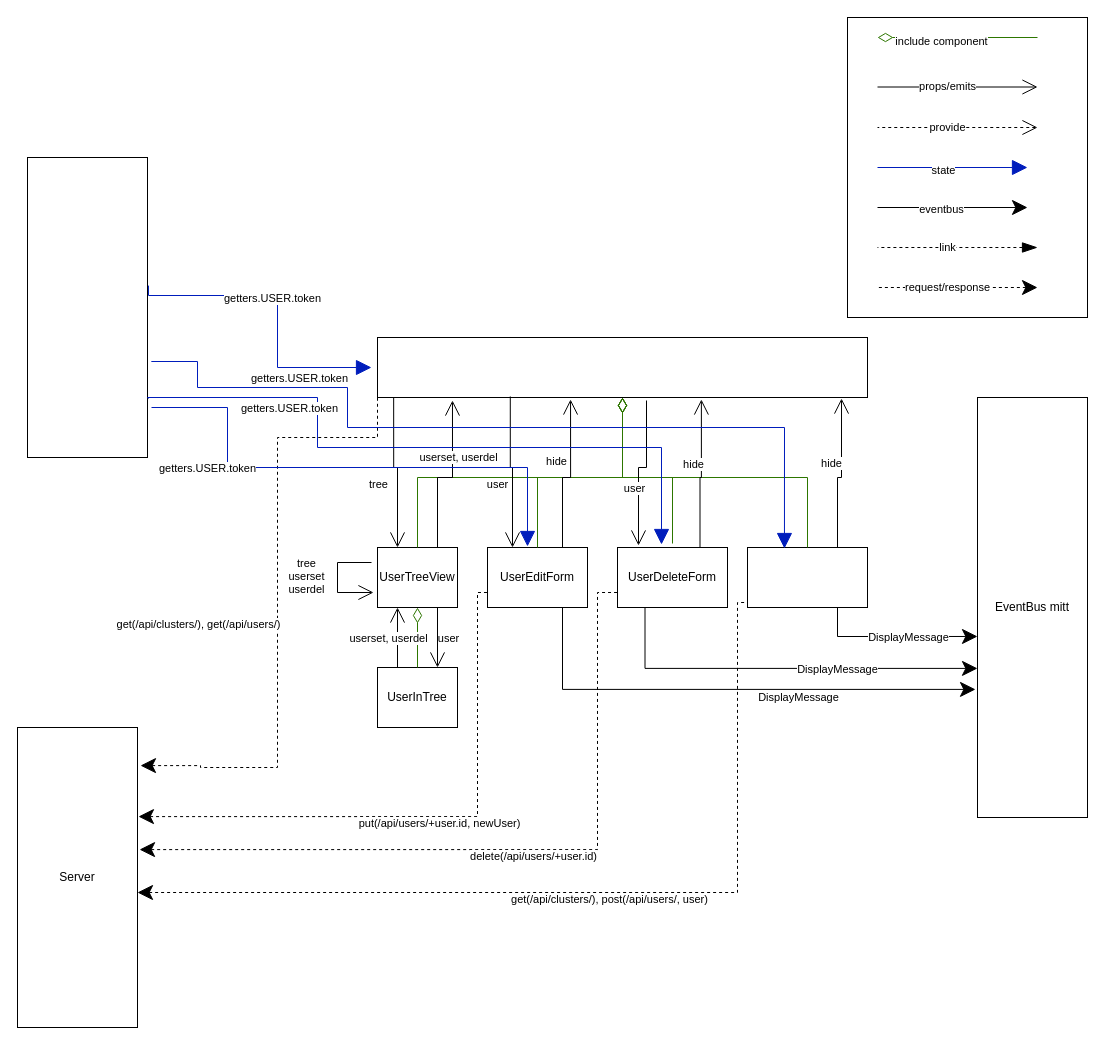
Image size: 1105x1045. Some labels were removed from this diagram. Here are the shapes that lost their labels. From the top down, the box of each, then its label:
(26, 156, 148, 458): Vuex.store
(376, 336, 868, 398): UserPage
(746, 546, 868, 608): UserRegisterForm
